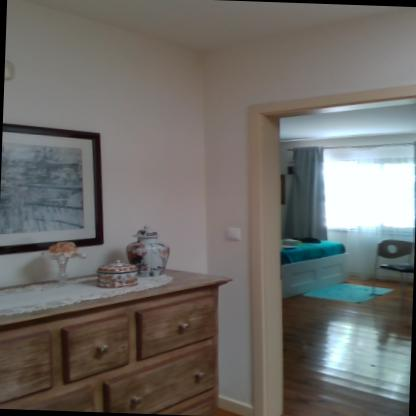open: (227, 76, 415, 415)
